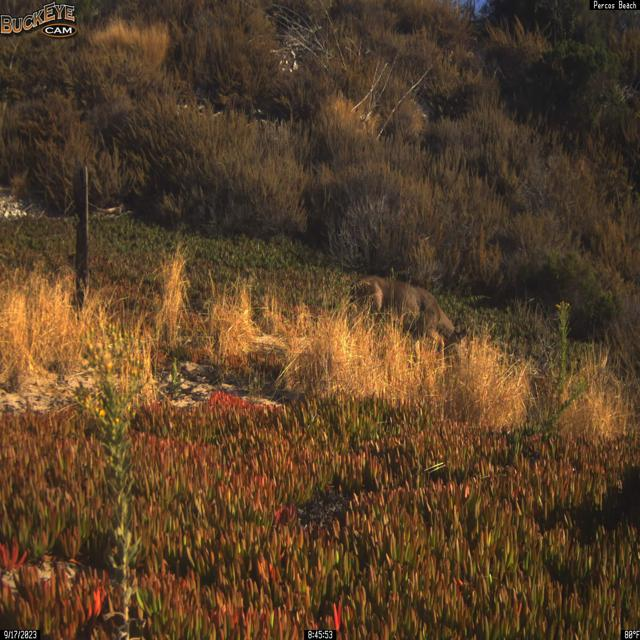deer: (347, 275, 468, 360)
